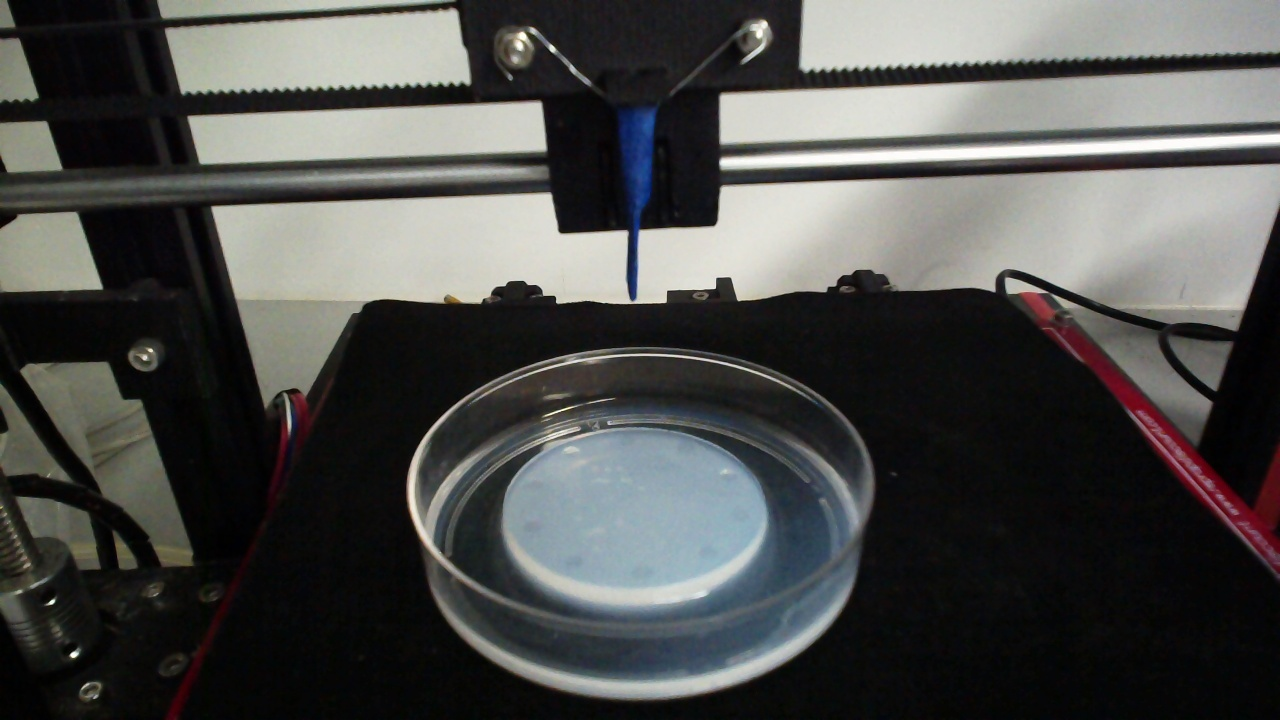groove: (519, 478, 545, 494), (519, 518, 542, 535), (729, 506, 752, 523), (629, 566, 655, 581), (563, 554, 585, 569), (696, 546, 719, 560), (615, 433, 636, 448), (718, 468, 740, 482), (676, 440, 695, 455), (561, 445, 580, 459)
needle: (625, 106, 655, 300)
